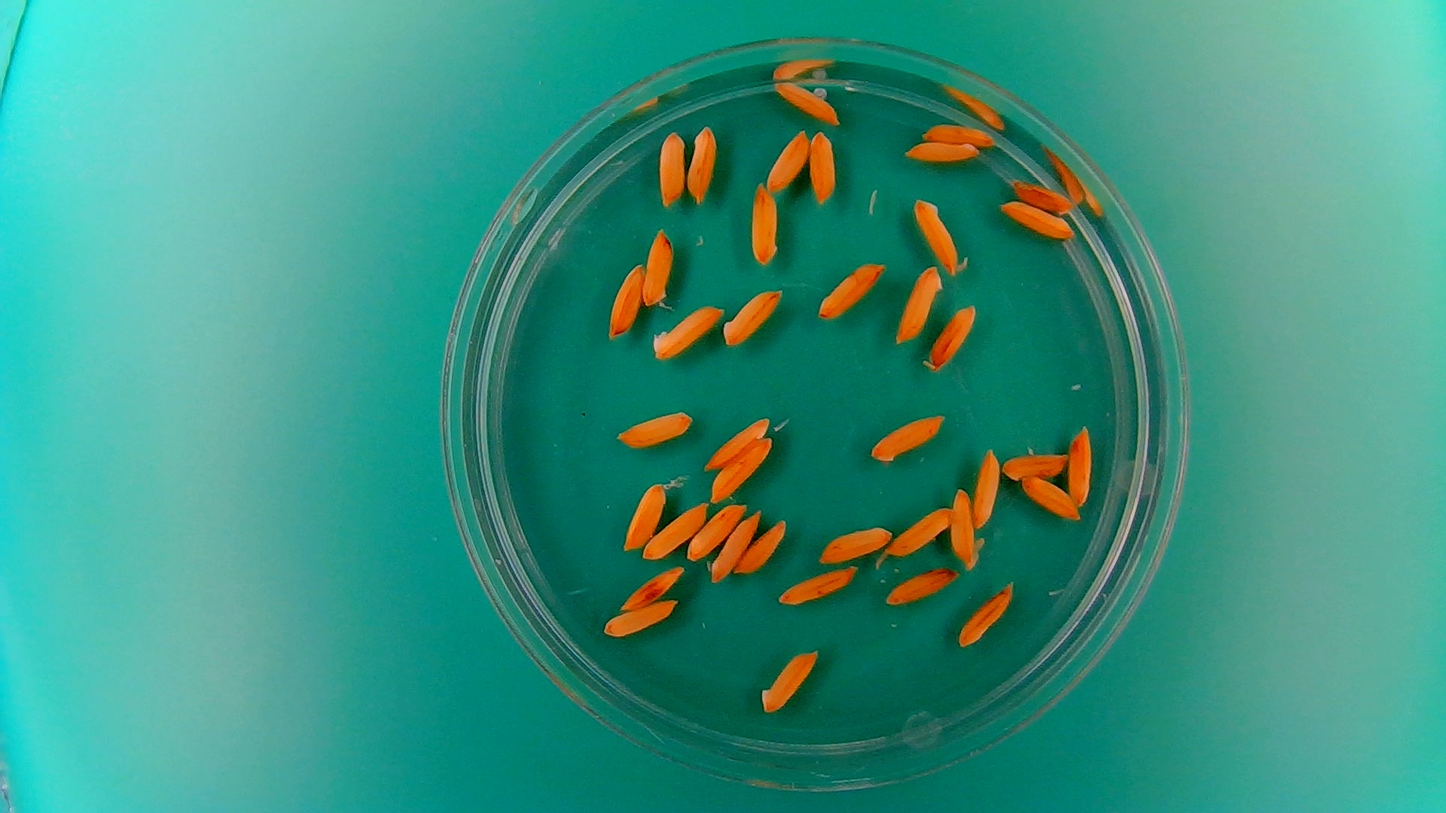no: (707, 434, 776, 504), (866, 410, 950, 465), (648, 301, 725, 361), (816, 258, 886, 320), (640, 500, 709, 562), (912, 195, 964, 276), (956, 580, 1017, 649), (701, 414, 776, 470), (894, 262, 943, 346), (758, 648, 819, 715), (721, 286, 784, 349), (685, 500, 748, 562), (925, 301, 977, 373), (885, 504, 952, 559), (621, 478, 669, 553), (776, 564, 859, 607), (614, 407, 694, 449), (770, 78, 840, 126), (618, 565, 686, 614), (816, 522, 893, 565), (997, 198, 1077, 239), (734, 516, 789, 575), (601, 598, 680, 639), (764, 126, 811, 193), (606, 260, 645, 340), (883, 565, 960, 605), (949, 485, 984, 571), (1018, 474, 1081, 521), (641, 225, 674, 310), (685, 120, 718, 204), (747, 181, 779, 267), (655, 126, 687, 209), (970, 444, 1001, 529), (1008, 177, 1075, 215), (1066, 422, 1095, 507), (807, 128, 837, 205), (999, 449, 1068, 481), (920, 120, 997, 147), (904, 139, 979, 163)
